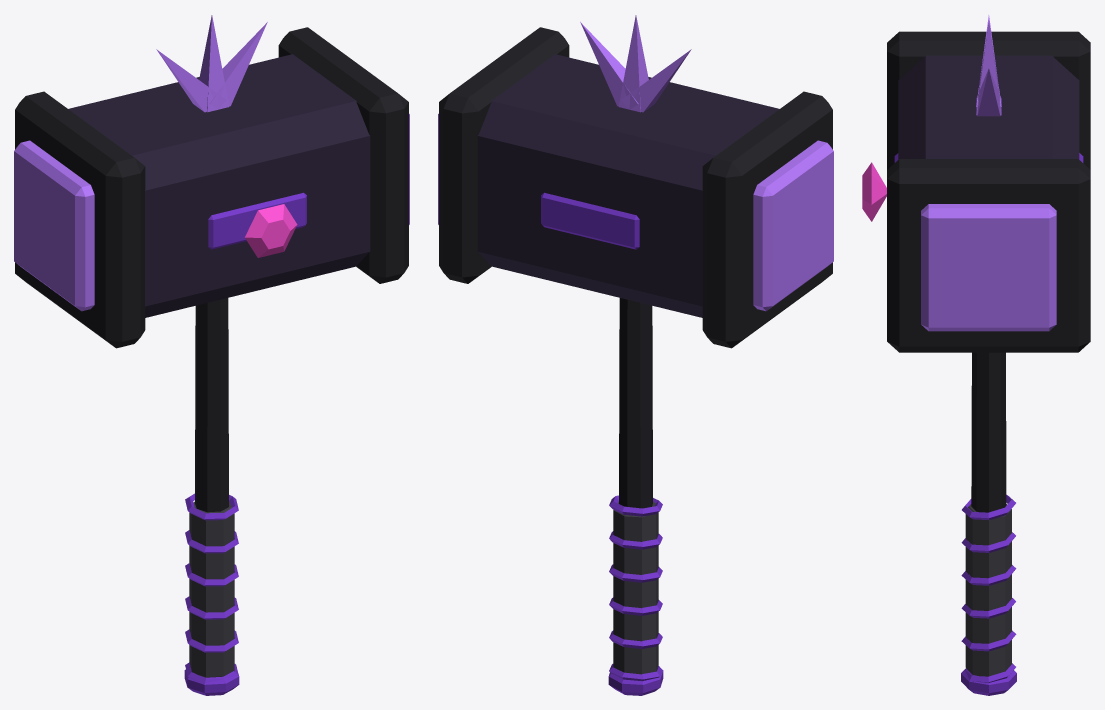
The model's file is ShadowHammer.fbx.
3 renders of one model, left to right at view 1: azimuth 30°, elevation 25°; view 2: azimuth 150°, elevation 25°; view 3: azimuth 270°, elevation 25°, orthographic.
Visible parts, largest first — view 1: ShadowHammer; view 2: ShadowHammer; view 3: ShadowHammer.
Boxes of the visible parts, x1,y1,x2,y2 form: ShadowHammer: [14, 15, 409, 695]; ShadowHammer: [438, 15, 833, 695]; ShadowHammer: [862, 15, 1090, 695].
Size of the model in its own units: 2.54 by 4.88 by 1.52.
1 material, 1 textured.
